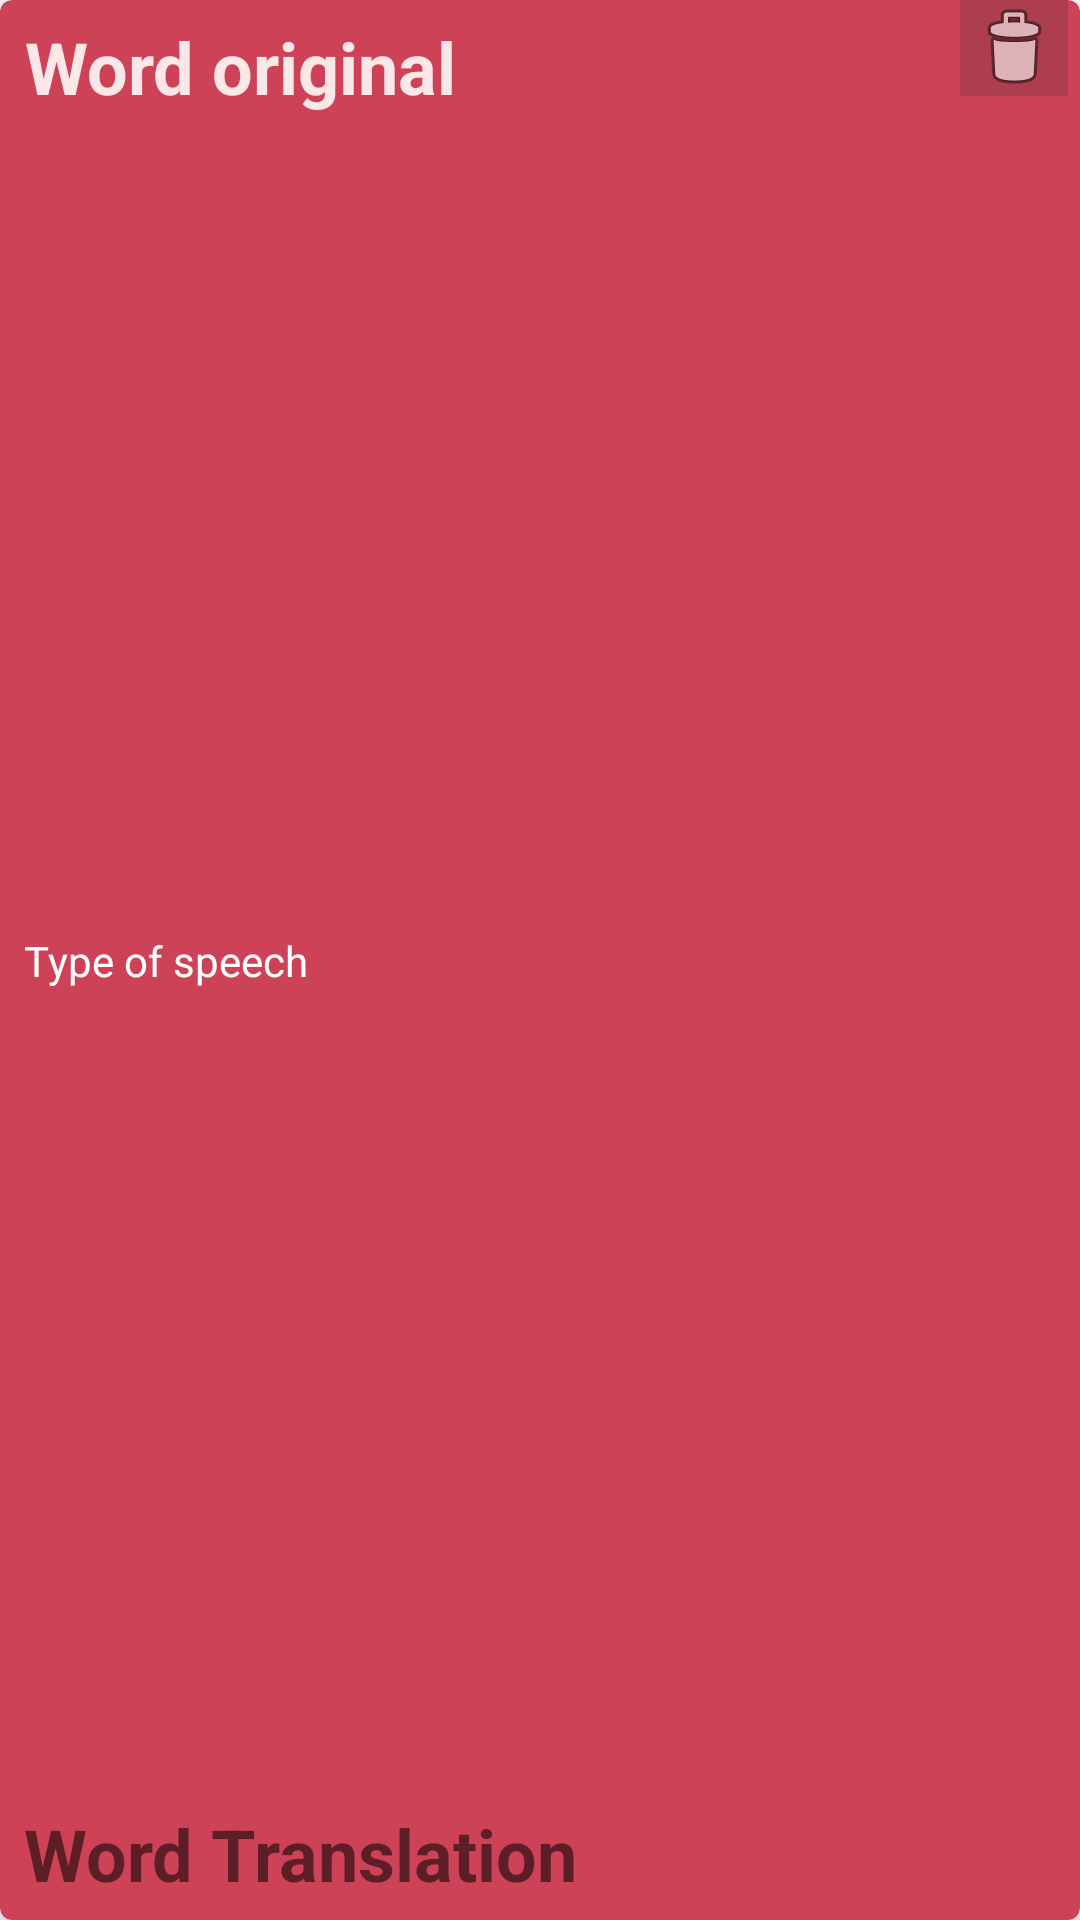

Icon bounding boxes for this 1080w x 1920h phone screenshot, format {"x1": x1, "y1": y1, "x2": x2, "y2": y2}:
Bin icon: {"x1": 960, "y1": 0, "x2": 1068, "y2": 96}
